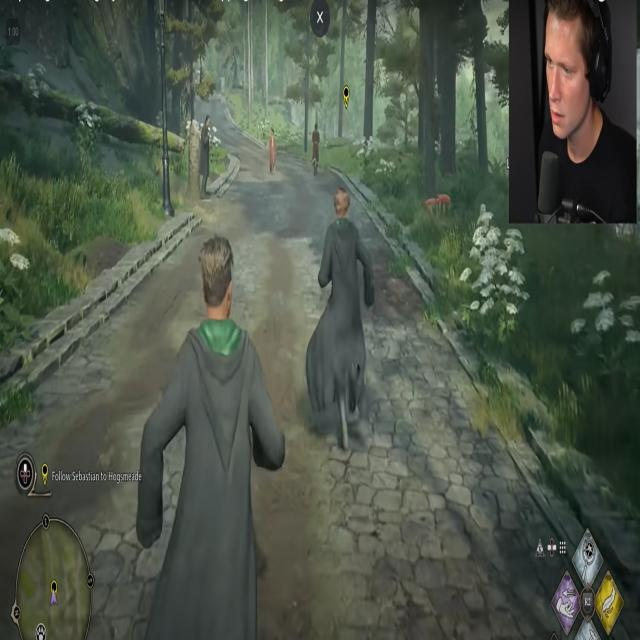compass: (50, 579, 58, 606), (342, 84, 350, 110), (41, 462, 49, 487)
